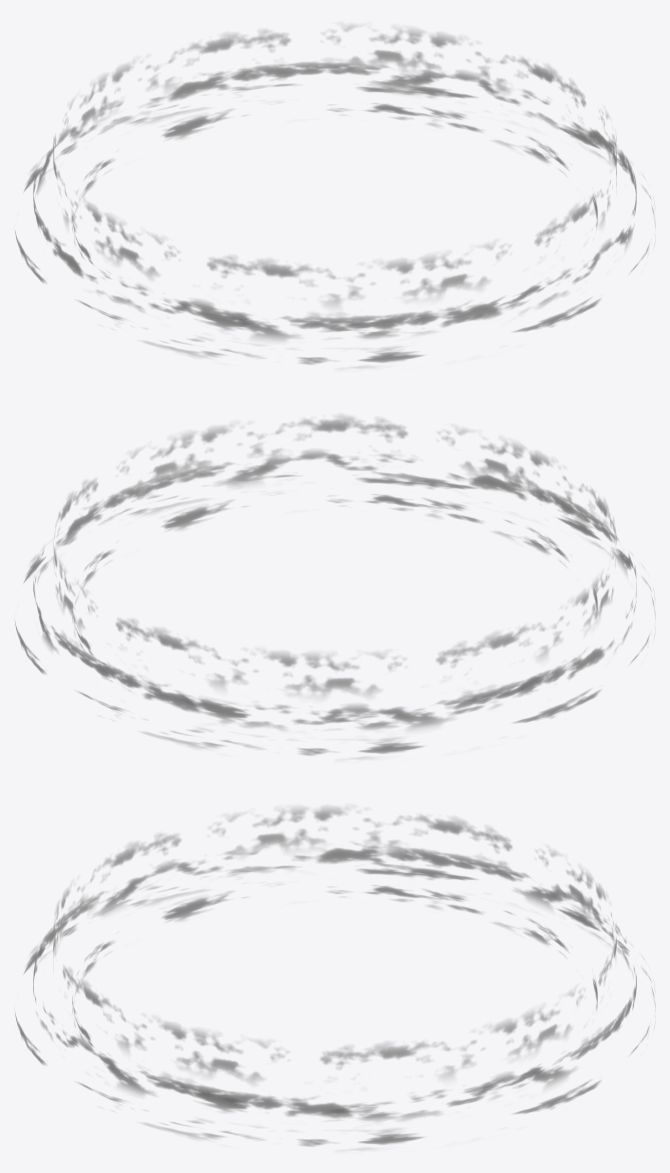
File: sky_cloud_layers_v5.glb
The picture shows the model from 3 angles, top to bottom: view 1: azimuth 30°, elevation 25°; view 2: azimuth 150°, elevation 25°; view 3: azimuth 270°, elevation 25°; orthographic projection.
Parts seen in each view (by area): view 1: cloud_layer_2, cloud_layer_1, cloud_layer_0, cloud_layer_3; view 2: cloud_layer_2, cloud_layer_1, cloud_layer_0, cloud_layer_3; view 3: cloud_layer_2, cloud_layer_1, cloud_layer_0, cloud_layer_3.
Boxes of the visible parts, <box> form: cloud_layer_2: <box>53,24,616,311</box>; cloud_layer_1: <box>33,58,636,343</box>; cloud_layer_0: <box>15,81,655,369</box>; cloud_layer_3: <box>72,102,597,340</box>; cloud_layer_2: <box>53,415,616,701</box>; cloud_layer_1: <box>33,449,636,736</box>; cloud_layer_0: <box>15,472,655,761</box>; cloud_layer_3: <box>72,493,597,731</box>; cloud_layer_2: <box>53,806,616,1090</box>; cloud_layer_1: <box>33,843,636,1126</box>; cloud_layer_0: <box>15,863,655,1151</box>; cloud_layer_3: <box>72,884,597,1122</box>.
Size of the model in its own units: 6600 by 1222 by 6600.
Materials: 1 (1 with a texture image).
